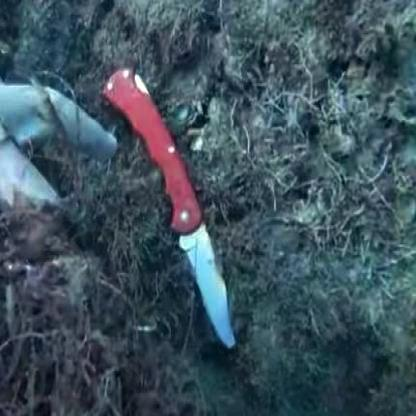misc: (117, 87, 268, 364)
